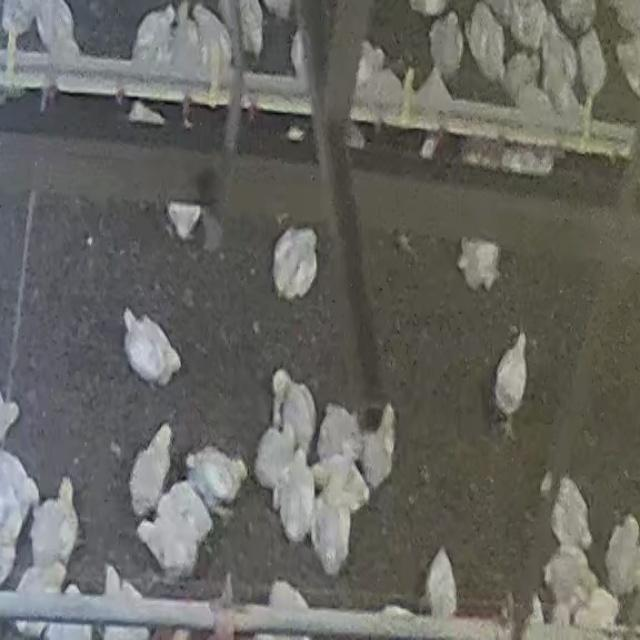chicken: (0, 0, 83, 57), (120, 306, 180, 384), (187, 449, 246, 525), (484, 334, 530, 431), (31, 476, 79, 566), (269, 223, 325, 300), (270, 452, 314, 547), (545, 469, 595, 551), (127, 425, 172, 515), (14, 561, 66, 634), (270, 371, 316, 453), (138, 513, 196, 578), (312, 471, 347, 576), (310, 458, 369, 515), (157, 484, 211, 546), (103, 566, 148, 640), (544, 547, 598, 602), (362, 402, 397, 486), (0, 448, 38, 522), (467, 4, 503, 82), (605, 514, 640, 593), (458, 234, 504, 292), (423, 545, 456, 622), (316, 406, 360, 463), (48, 583, 90, 640), (194, 6, 232, 68), (496, 0, 546, 47), (134, 1, 173, 61), (540, 16, 576, 78), (428, 13, 462, 75), (258, 423, 292, 485), (572, 590, 620, 628), (500, 49, 537, 97), (577, 32, 604, 95), (613, 34, 640, 96), (163, 200, 201, 243), (173, 1, 198, 64), (240, 0, 266, 60), (266, 578, 308, 611), (559, 0, 596, 30)
